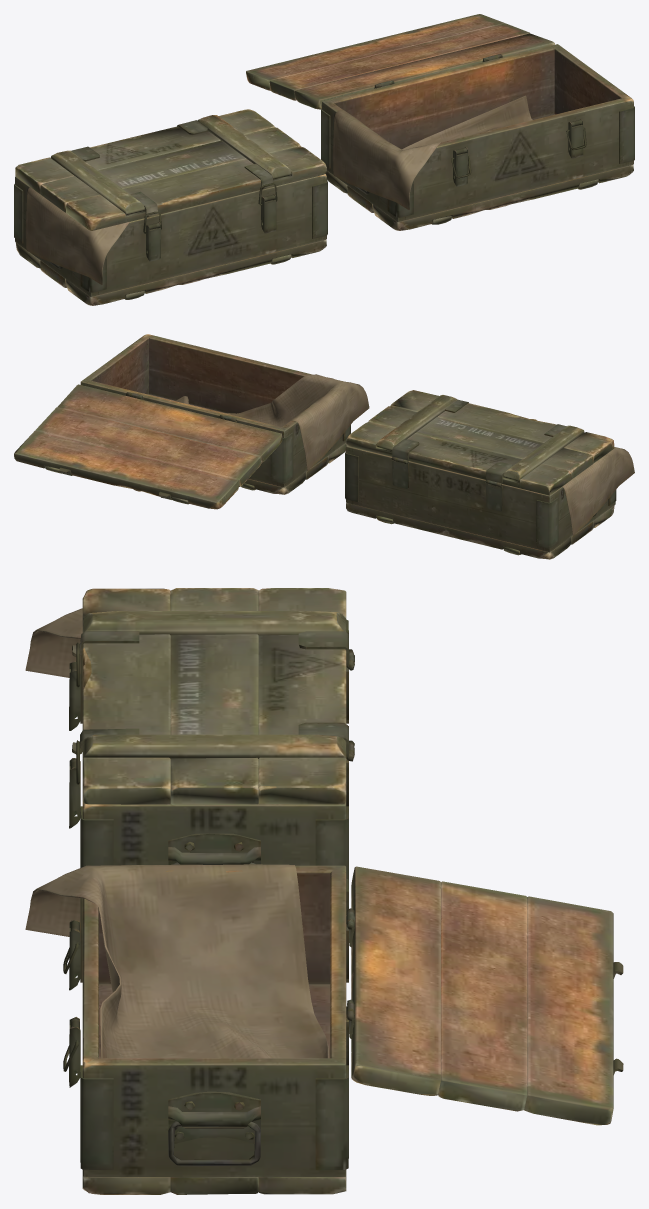
Rendered from old_military_crate.glb.
3 renders of one model, top to bottom at view 1: azimuth 30°, elevation 25°; view 2: azimuth 150°, elevation 25°; view 3: azimuth 270°, elevation 25°, orthographic. The views are drawn at different scales.
Visible parts, largest first — view 1: old_military_crate_lid_a; view 2: old_military_crate_lid_a; view 3: old_military_crate_lid_a.
Part boxes in pixels (box(x1,y1,x2,y2)): old_military_crate_lid_a: box(14, 14, 634, 305); old_military_crate_lid_a: box(14, 334, 634, 559); old_military_crate_lid_a: box(25, 588, 623, 1194).
Bounding box in the file's own units: 1.82 × 0.3009 × 0.9756.
1 material, 1 textured.
